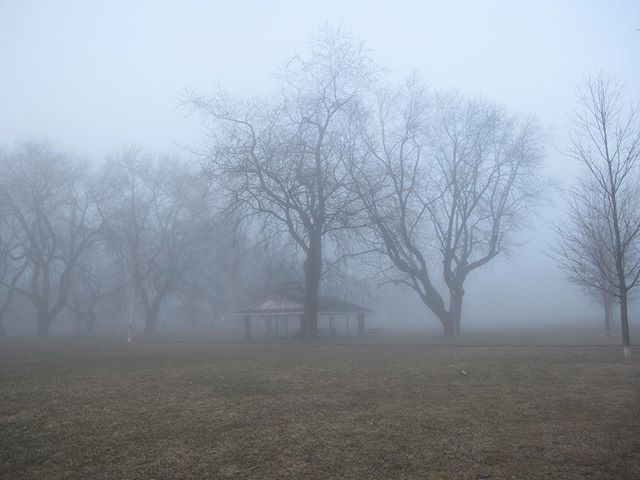grass: (1, 351, 629, 480)
sky: (2, 1, 640, 163)
tree: (365, 99, 533, 340), (226, 91, 391, 336), (99, 154, 236, 354), (1, 134, 135, 331), (547, 78, 640, 360)
